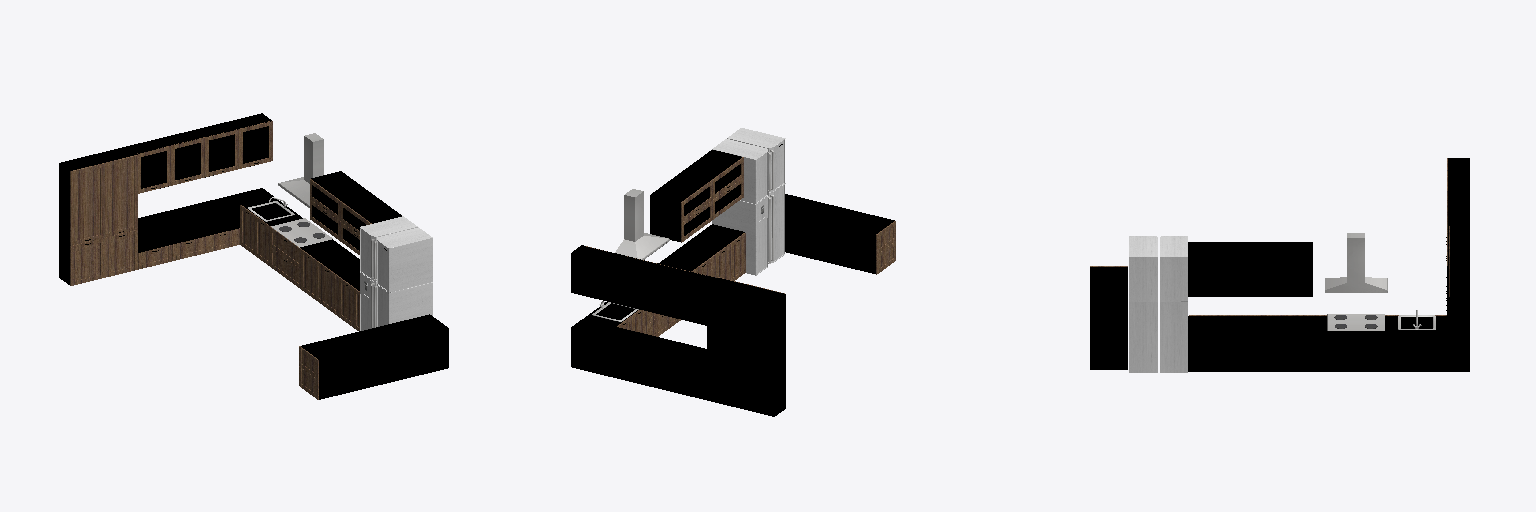
3 views of the same model, side by side, from view 1: azimuth 30°, elevation 25°; view 2: azimuth 150°, elevation 25°; view 3: azimuth 270°, elevation 25° (orthographic).
Visible parts, largest first — view 1: polySurface79; view 2: polySurface79; view 3: polySurface79.
Part boxes in pixels (x1,y1,x2,y2): polySurface79: (59,113,448,399); polySurface79: (571,128,895,416); polySurface79: (1090,158,1469,372).
Size of the model in its own units: 4.44 by 2.8 by 7.19.
19 materials, 5 textured.